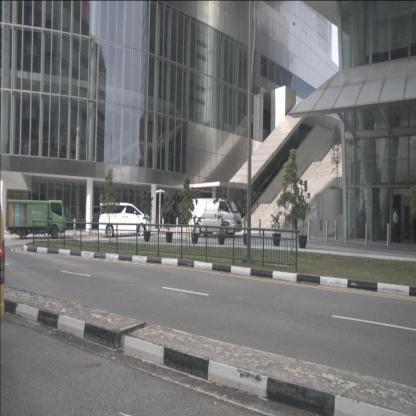human-pedestrian-adult: (393, 206, 402, 243)
vehicle-car: (188, 198, 242, 238), (98, 202, 151, 238), (91, 206, 115, 225)
vehicle-truck: (6, 199, 66, 239), (48, 205, 79, 227)
